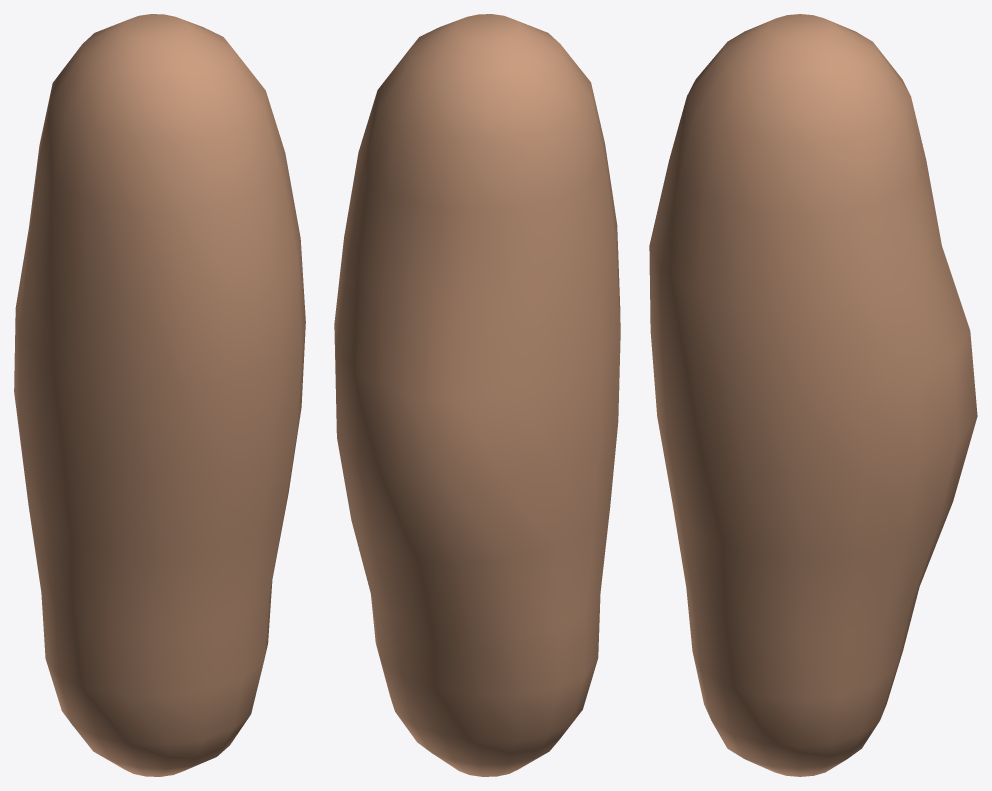
File: upper_arm_r.glb
3 views of the same model, side by side, from view 1: azimuth 30°, elevation 25°; view 2: azimuth 150°, elevation 25°; view 3: azimuth 270°, elevation 25° (orthographic).
Visible parts, largest first — view 1: OUT; view 2: OUT; view 3: OUT.
Boxes of the visible parts, left/top/right/bottom form: OUT: left=14, top=14, right=305, bottom=776; OUT: left=334, top=14, right=620, bottom=776; OUT: left=649, top=14, right=977, bottom=776.
Bounding box in the file's own units: 0.1202 × 0.344 × 0.1394.
